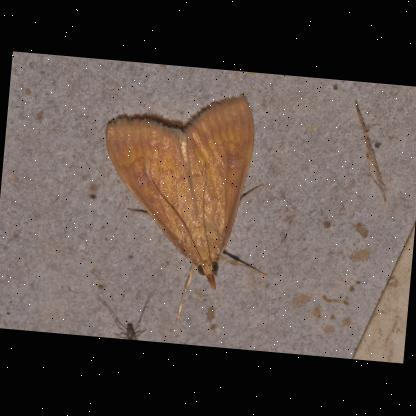Asian Corn Borer Moth: (86, 78, 286, 334)
